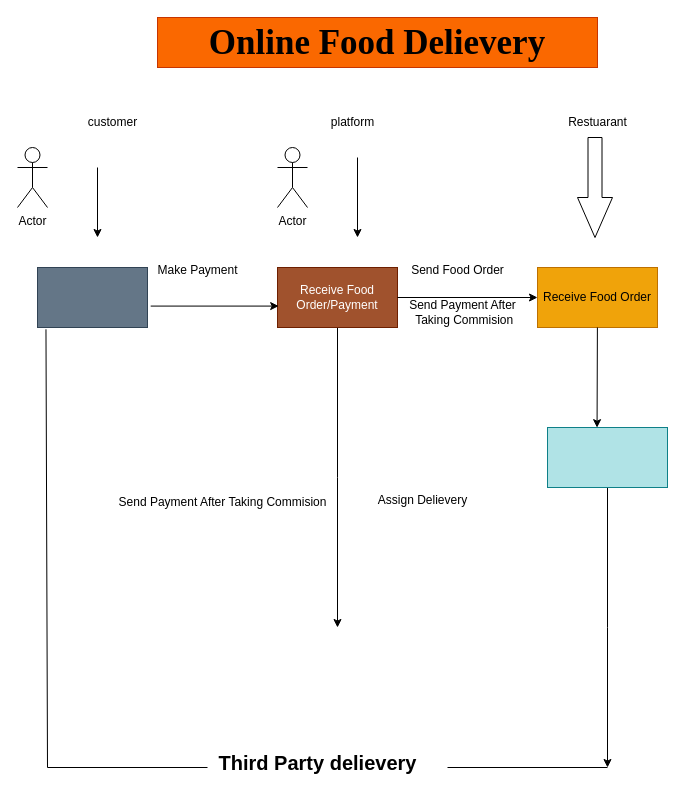
Some shapes in this 685 by 800 pixel diagram are drawn without their labels. The shapes that lost their labels are listed below. From the top down, each one's centre as x and y in pixels, then its label:
the point at 92,297: Place Food Order
the point at 607,457: Prepare And Pack Food
